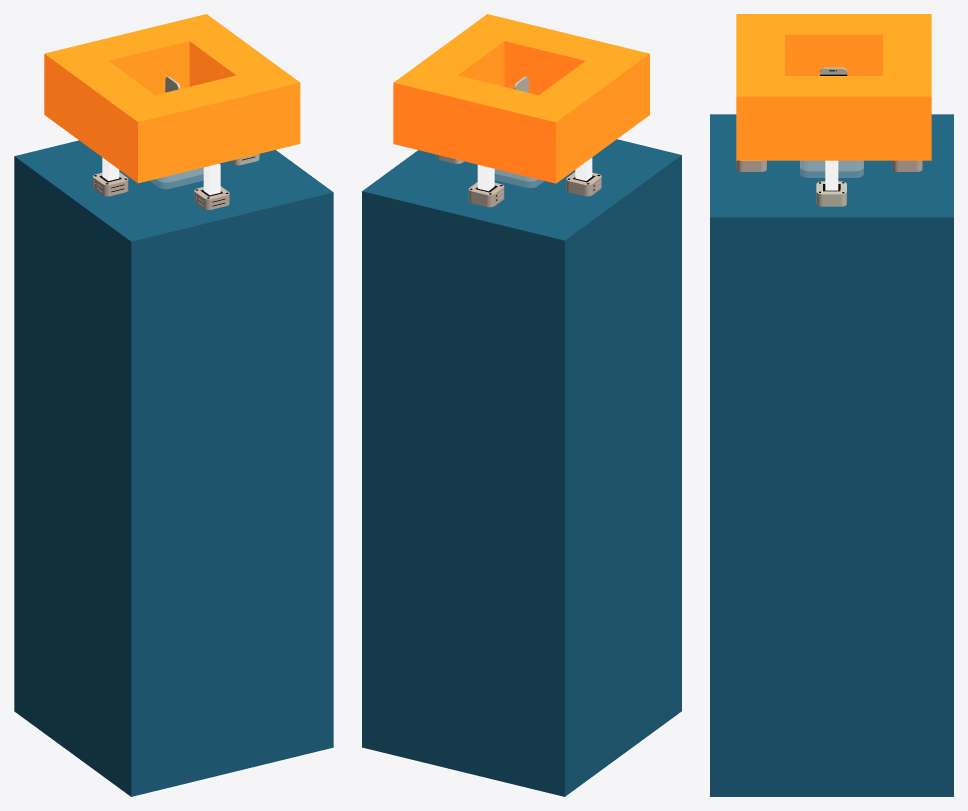
File: pclub-transformed.glb
The picture shows the model from 3 angles, left to right: view 1: azimuth 30°, elevation 25°; view 2: azimuth 150°, elevation 25°; view 3: azimuth 270°, elevation 25°; orthographic projection. The views are drawn at different scales.
Parts seen in each view (by area): view 1: Cube.043, DustParticles, Cube.040, Cube.021, Cube.038; view 2: Cube.043, DustParticles, Cube.020, Cube.021; view 3: Cube.043, DustParticles, Cube.040, Cube, Cube.041.
Boxes of the visible parts, bbox=[...] form: Cube.043: bbox=[14, 140, 333, 796]; DustParticles: bbox=[44, 14, 300, 183]; Cube.040: bbox=[150, 168, 203, 188]; Cube.021: bbox=[93, 172, 128, 196]; Cube.038: bbox=[194, 186, 229, 209]; Cube.043: bbox=[362, 139, 681, 796]; DustParticles: bbox=[393, 14, 649, 183]; Cube.020: bbox=[468, 182, 504, 207]; Cube.021: bbox=[566, 172, 601, 196]; Cube.043: bbox=[710, 114, 953, 796]; DustParticles: bbox=[736, 14, 931, 160]; Cube.040: bbox=[800, 162, 863, 177]; Cube: bbox=[816, 181, 846, 206]; Cube.041: bbox=[800, 161, 863, 170].
Bounding box in the file's own units: 35.26 × 110 × 35.26.
